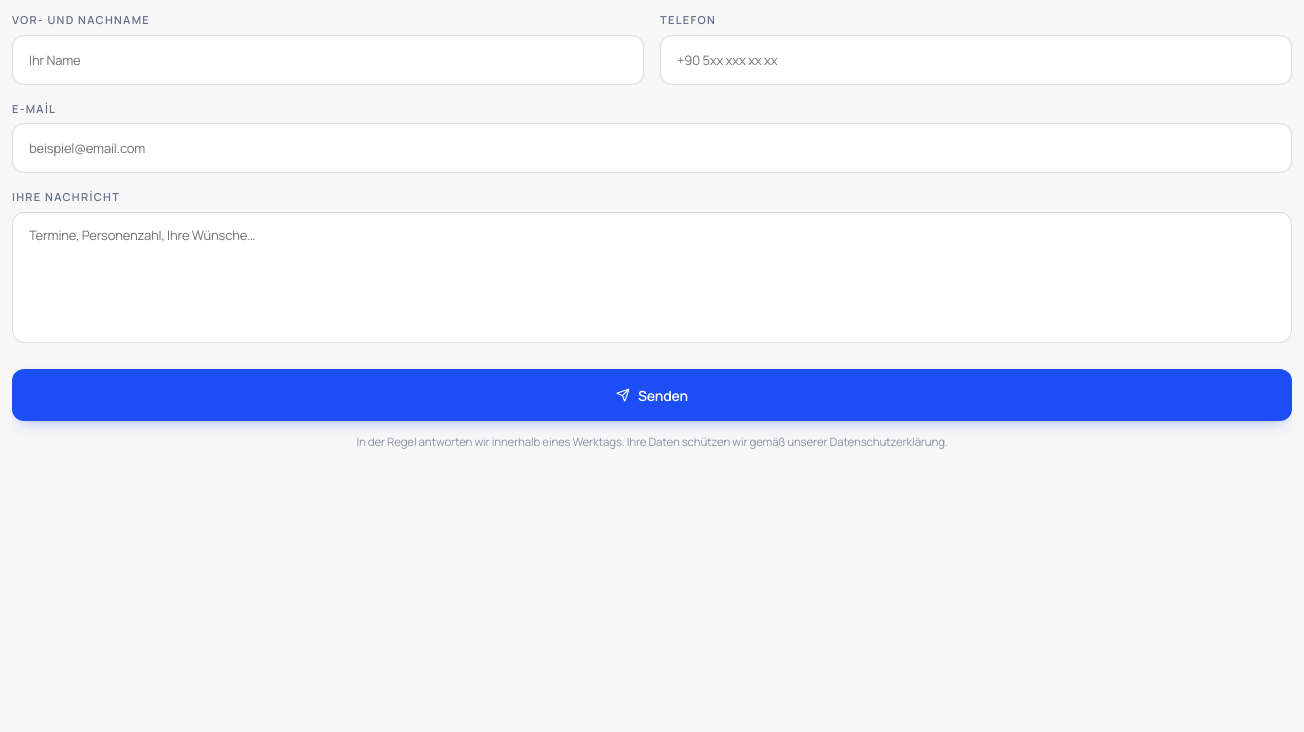
Test case: ContactForm — çoklu dil › 33) de: telefon/e-posta zorunluluğu kendi dilinde
Type "Ad" into the field with placeholder "Ihr Name". click: point(328, 60)
box: [12, 34, 644, 84]
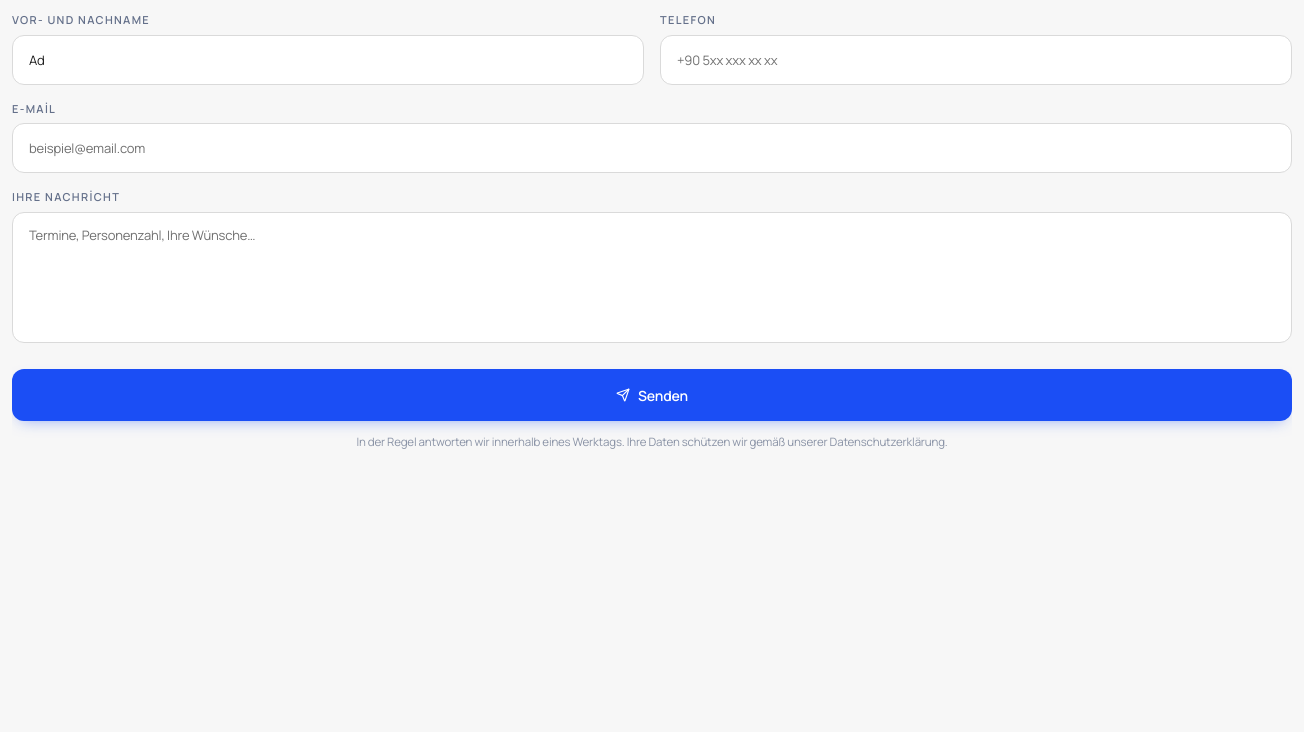
Type "On karakterden uzun bir mesaj." into the text box with placeholder "Termine, Personenzahl, Ihre Wünsche…". click: point(652, 277)
box: [12, 212, 1292, 343]
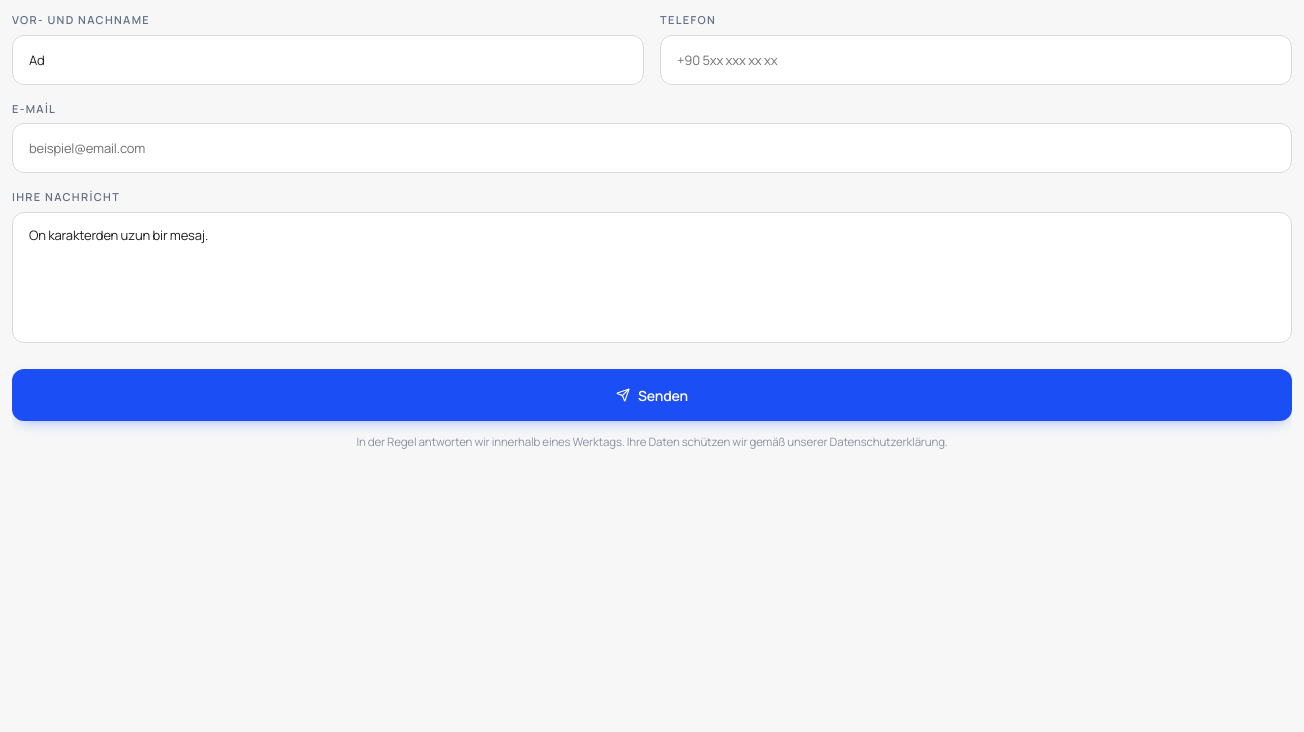
Submit the text "Senden", box [12, 12, 1292, 452]
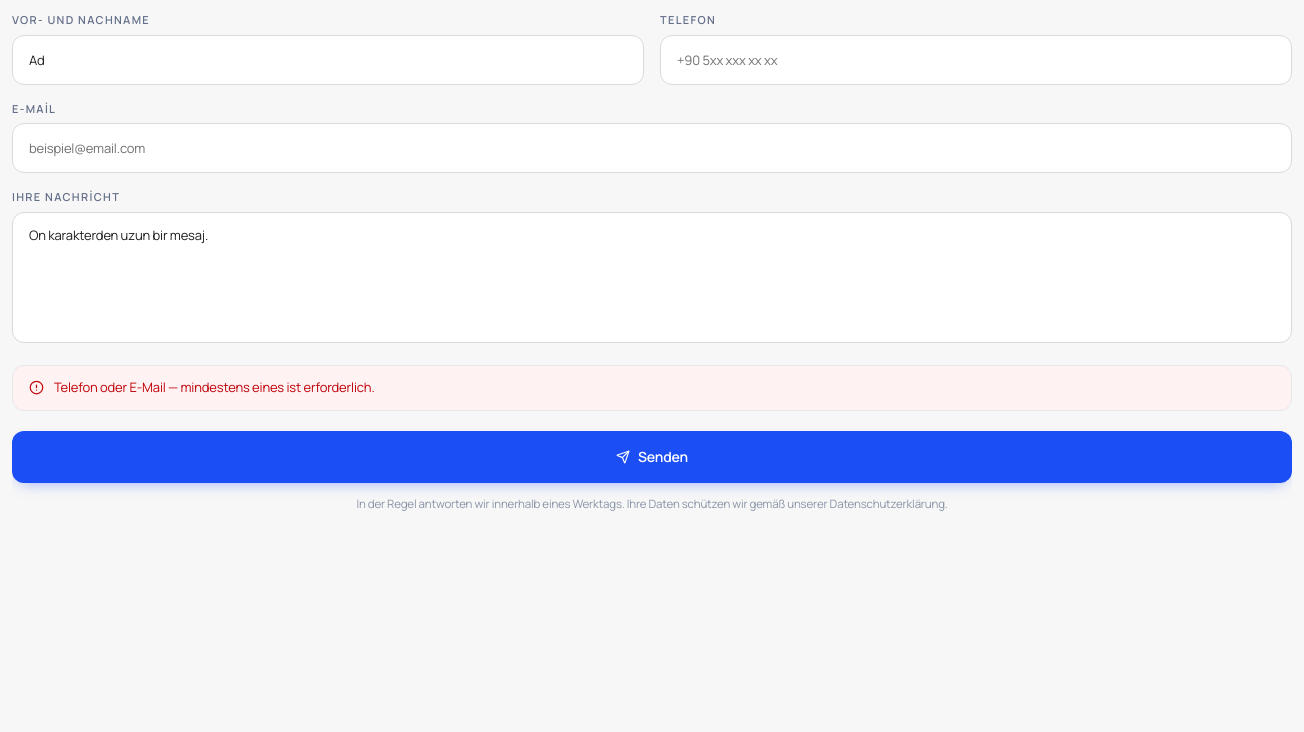
Expected: the text "Telefon oder E-Mail — mindestens eines ist erforderlich." is shown, [54, 378, 375, 398]
